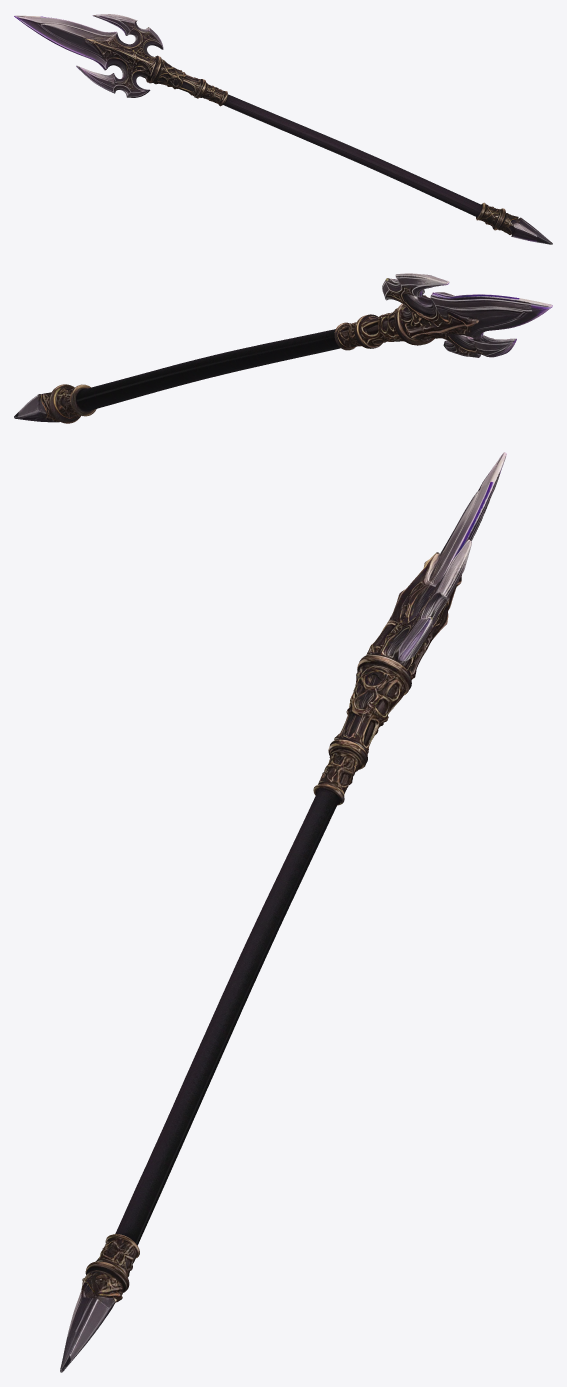
File: ashtonweaponmodel.glb
The picture shows the model from 3 angles, top to bottom: view 1: azimuth 30°, elevation 25°; view 2: azimuth 150°, elevation 25°; view 3: azimuth 270°, elevation 25°; orthographic projection. The views are drawn at different scales.
Visible parts, largest first — view 1: mesh_node; view 2: mesh_node; view 3: mesh_node.
Boxes of the visible parts, bbox=[...] form: mesh_node: bbox=[14, 14, 552, 244]; mesh_node: bbox=[14, 273, 552, 423]; mesh_node: bbox=[60, 452, 506, 1372].
Bounding box in the file's own units: 1.9 × 1.07 × 0.8595.
1 material, 1 textured.
